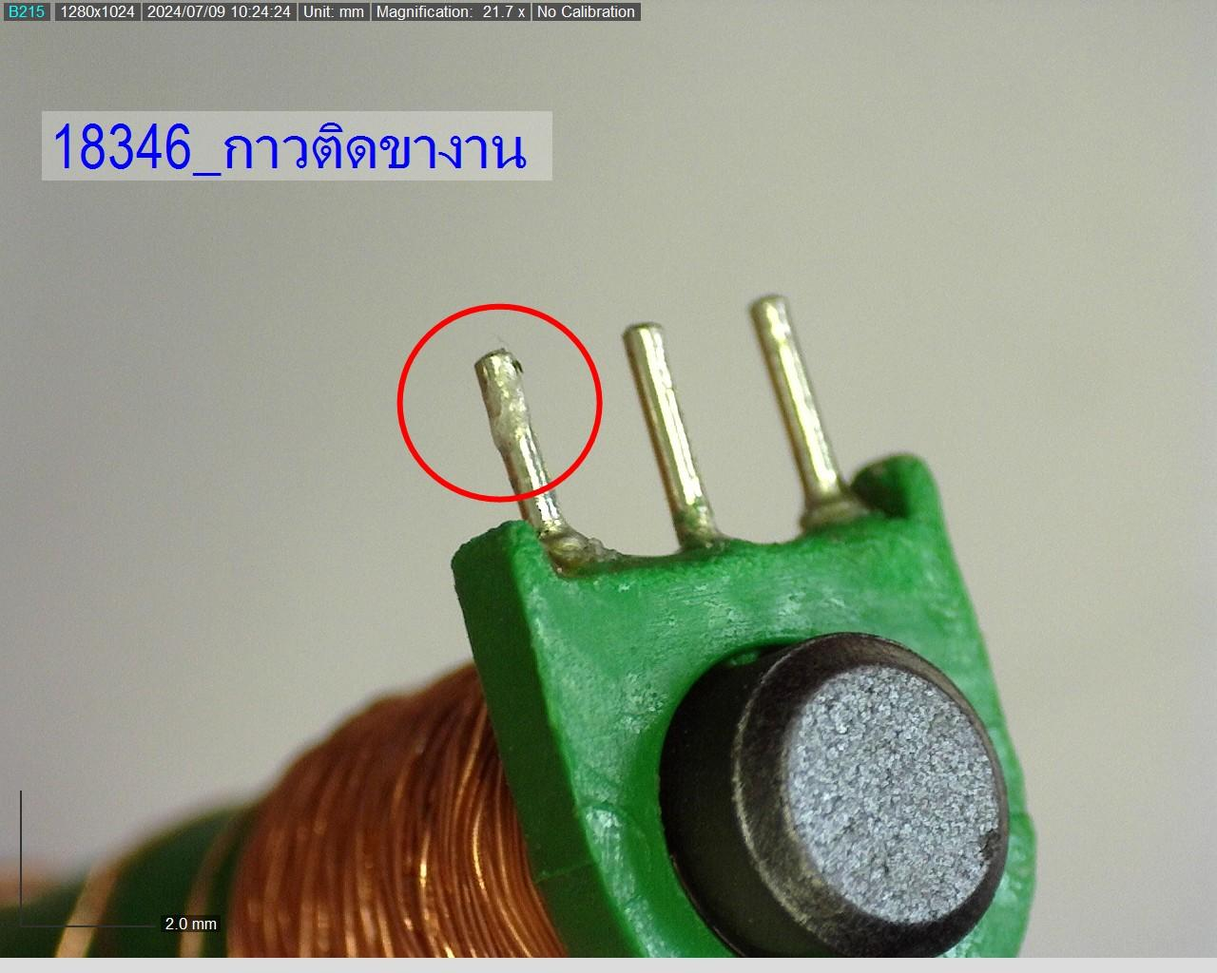glue: (452, 353, 562, 472)
